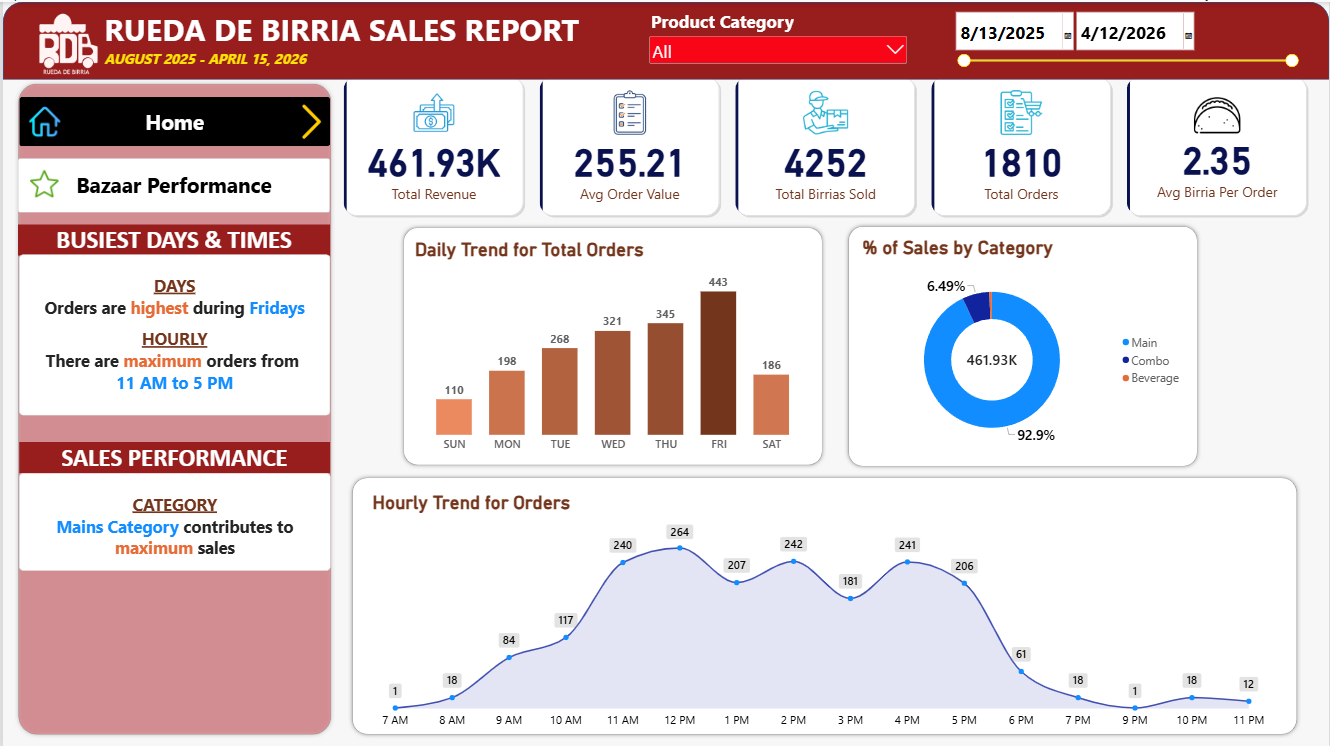

The dashboard page shown, as its layout file describes it:
{"tool":"powerbi","page":{"name":"Home","canvas":[2560,1440],"ordinal":0},"visuals":[{"type":"shape","box":[665,910,1840,512.5],"z":0},{"type":"shape","box":[1625,425,690,480],"z":1000},{"type":"cardVisual","fields":{"Data":["rdb_sales.Total Revenue","rdb_sales.Avg Order Value","rdb_sales.Total Birrias Sold","rdb_sales.Total Orders","rdb_sales.Avg Birria Per Order"]},"box":[642.5,127.5,1892.5,300],"z":2000},{"type":"shape","box":[0,0,2560,150],"z":3000},{"type":"textbox","box":[195,12.5,942.5,82.5],"z":4000},{"type":"shape","box":[22.5,150,620,1272.5],"z":5000},{"type":"textbox","box":[195,92.5,410,55],"z":6000},{"type":"shape","box":[765,427.5,825,475],"z":7000},{"type":"image","box":[0,0,250,182.5],"z":8000},{"type":"columnChart","title":"Daily Trend for Total Orders","fields":{"Category":["rdb_sales.Order Day"],"Y":["rdb_sales.Total Orders"]},"box":[780,442.5,797.5,447.5],"z":9000},{"type":"areaChart","title":"Hourly Trend for Orders","fields":{"Category":["rdb_sales.Order Hour Label"],"Y":["rdb_sales.Total Orders"]},"box":[697.5,932.5,1767.5,490],"z":10000},{"type":"donutChart","title":"% of Sales by Category","fields":{"Category":["rdb_sales.product_category"],"Y":["rdb_sales.Total Revenue"]},"box":[1642.5,440,652.5,447.5],"z":11000},{"type":"textbox","box":[30,430,602.5,60],"z":12000},{"type":"textbox","box":[32.5,487.5,600,310],"z":13000},{"type":"textbox","box":[32.5,850,600,60],"z":14000},{"type":"textbox","box":[31.4,909.7,600.8,188.2],"z":15000},{"type":"slicer","fields":{"Values":["rdb_sales.product_category"]},"box":[1242.5,15,507.5,122.5],"z":16000},{"type":"slicer","fields":{"Values":["rdb_sales.order_date"]},"box":[1832.5,15,672.5,122.5],"z":17000},{"type":"pageNavigator","box":[32.5,182.5,600,95],"z":18000},{"type":"pageNavigator","box":[30,302.5,602.5,105],"z":19000},{"type":"image","box":[562.5,182.5,67.5,95],"z":20000},{"type":"image","box":[50,182.5,60,95],"z":21000},{"type":"image","box":[46.2,323.8,67.5,55],"z":22000}]}

Visuals, with their boxes in screenshot pixels (x1, y1, x2, y2), scaled from the page's 2560x1440 canvas onto the 1330x746 screenshot:
shape: x1=345 y1=471 x2=1301 y2=737
shape: x1=844 y1=220 x2=1203 y2=469
cardVisual - rdb_sales.Total Revenue x rdb_sales.Avg Order Value: x1=334 y1=66 x2=1317 y2=221
shape: x1=0 y1=0 x2=1329 y2=78
textbox: x1=101 y1=6 x2=591 y2=49
shape: x1=12 y1=78 x2=334 y2=737
textbox: x1=101 y1=48 x2=314 y2=76
shape: x1=397 y1=221 x2=826 y2=468
image: x1=0 y1=0 x2=130 y2=95
"Daily Trend for Total Orders" columnChart: x1=405 y1=229 x2=820 y2=461
"Hourly Trend for Orders" areaChart: x1=362 y1=483 x2=1281 y2=737
"% of Sales by Category" donutChart: x1=853 y1=228 x2=1192 y2=460
textbox: x1=16 y1=223 x2=329 y2=254
textbox: x1=17 y1=253 x2=329 y2=413
textbox: x1=17 y1=440 x2=329 y2=471
textbox: x1=16 y1=471 x2=328 y2=569
slicer - rdb_sales.product_category: x1=646 y1=8 x2=909 y2=71
slicer - rdb_sales.order_date: x1=952 y1=8 x2=1301 y2=71
pageNavigator: x1=17 y1=95 x2=329 y2=144
pageNavigator: x1=16 y1=157 x2=329 y2=211
image: x1=292 y1=95 x2=327 y2=144
image: x1=26 y1=95 x2=57 y2=144
image: x1=24 y1=168 x2=59 y2=196
